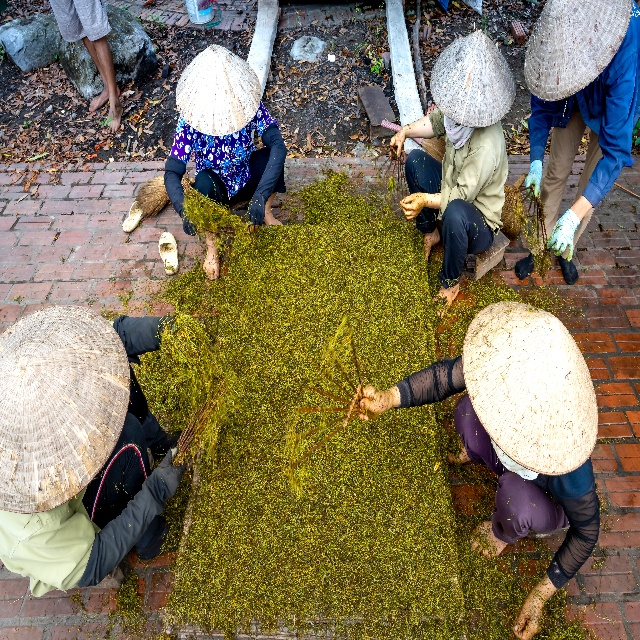Guantes: (77, 443, 188, 589), (245, 121, 288, 228), (164, 155, 197, 236), (114, 316, 174, 358), (547, 208, 580, 263), (526, 160, 542, 199)
Sin_guantes: (512, 588, 545, 640), (354, 384, 386, 420), (399, 191, 425, 219), (389, 129, 405, 161)
